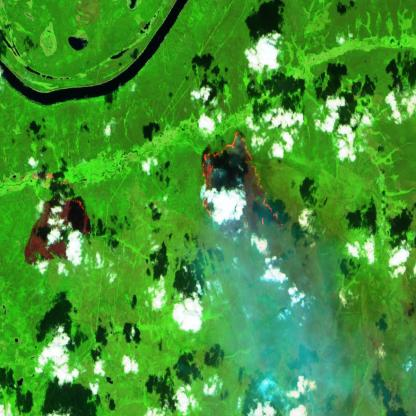fire: (200, 128, 280, 224), (50, 192, 88, 214)
